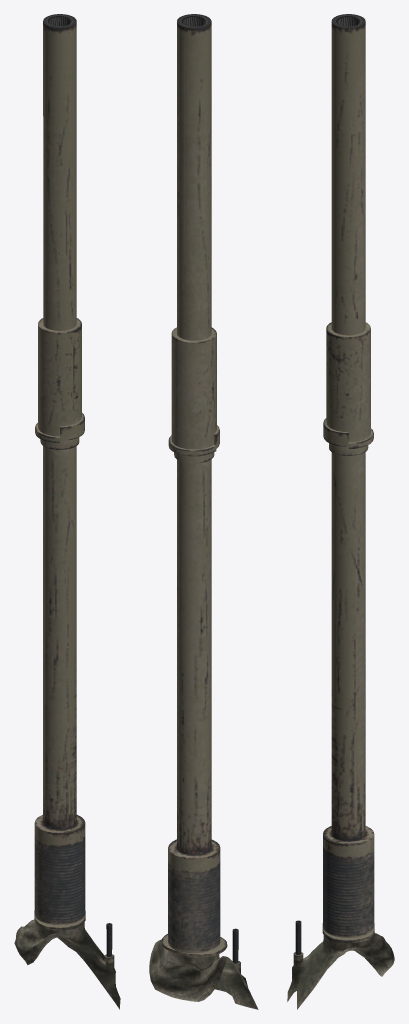
File: Gun_01.glb
3 renders of one model, left to right at view 1: azimuth 90°, elevation 25°; view 2: azimuth 150°, elevation 25°; view 3: azimuth 270°, elevation 25°, orthographic. The views are drawn at different scales.
Visible parts, largest first — view 1: set_0_group_0; view 2: set_0_group_0; view 3: set_0_group_0.
Part boxes in pixels (bbox=[...]): set_0_group_0: bbox=[14, 14, 120, 1009]; set_0_group_0: bbox=[149, 14, 258, 1009]; set_0_group_0: bbox=[287, 14, 394, 1009].
Size of the model in its own units: 0.4083 by 5.42 by 0.5363.
Materials: 1 (1 with a texture image).
